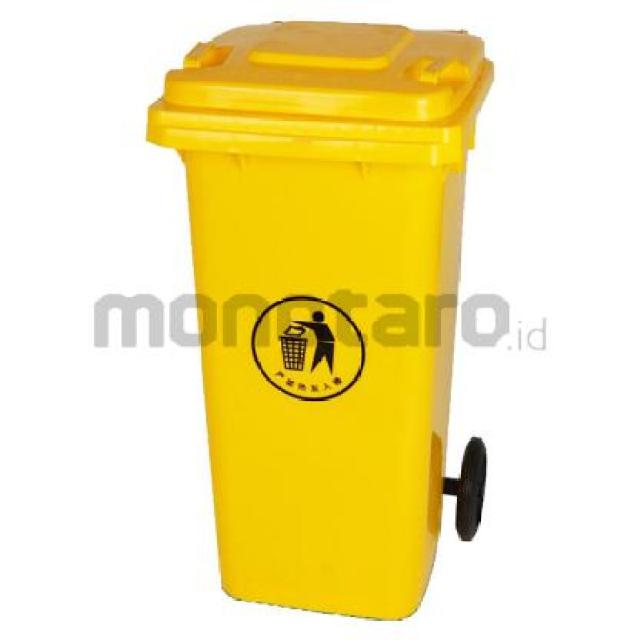garbage container: (133, 10, 530, 622)
